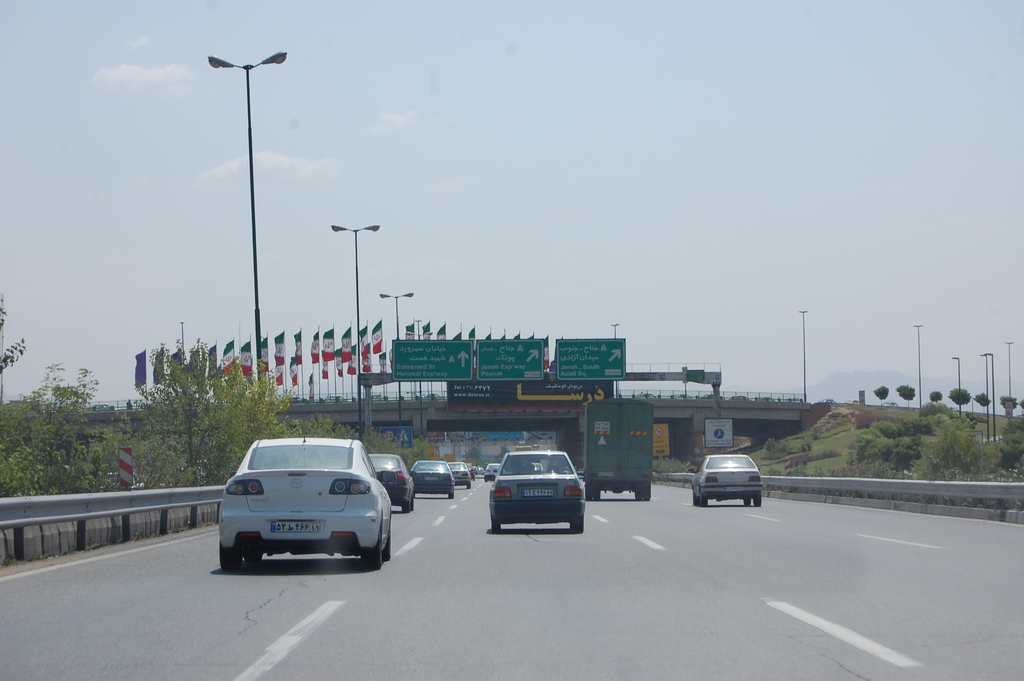Car: (218, 437, 483, 568), (489, 447, 584, 532), (691, 454, 762, 506), (485, 463, 500, 481), (531, 463, 543, 470)
